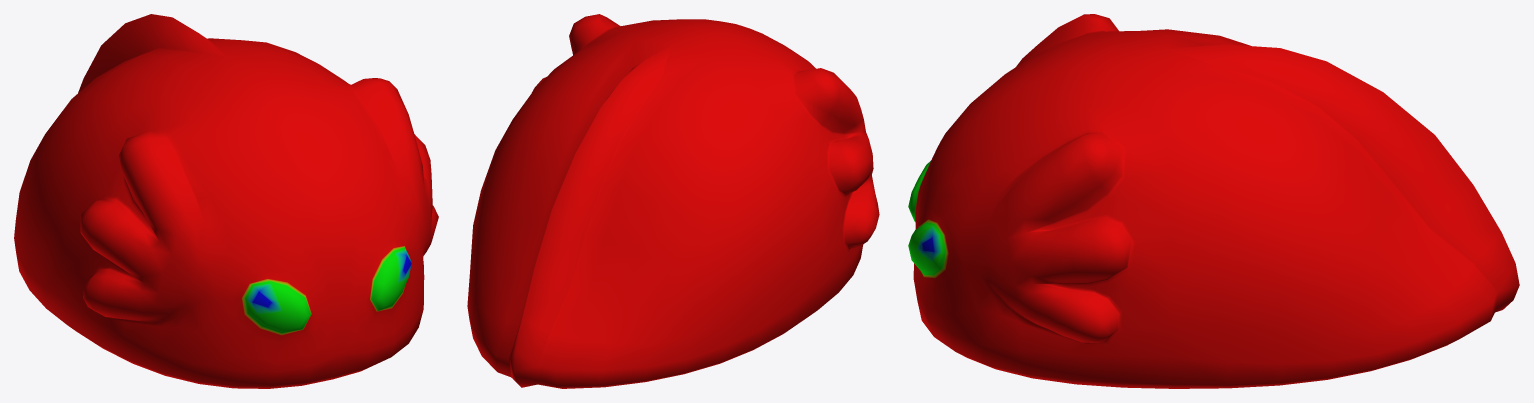
Rendered from DM_Squishy_Serie01_Axolotl.fbx.
3 views of the same model, side by side, from view 1: azimuth 30°, elevation 25°; view 2: azimuth 150°, elevation 25°; view 3: azimuth 270°, elevation 25° (orthographic). The views are drawn at different scales.
Parts seen in each view (by area): view 1: Axolotl; view 2: Axolotl; view 3: Axolotl.
Boxes of the visible parts, x1,y1,x2,y2 form: Axolotl: (14,14,438,388); Axolotl: (467,14,879,388); Axolotl: (908,14,1519,388).
Size of the model in its own units: 172 by 118 by 241.
